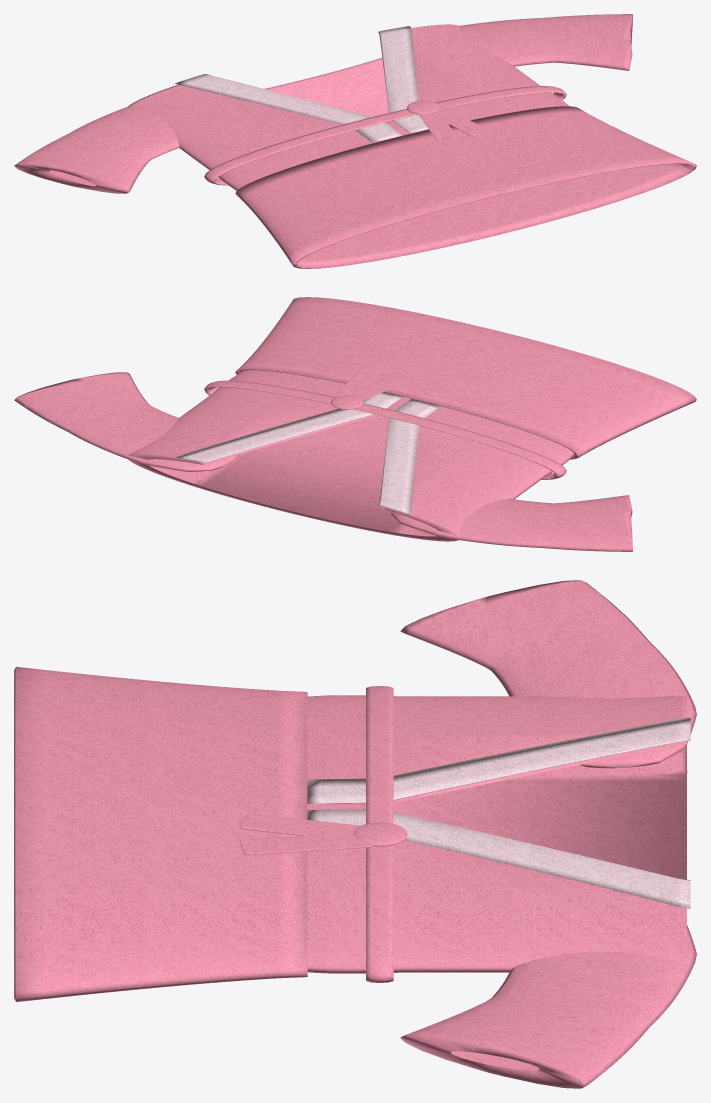
File: bathrobe1.fbx
3 renders of one model, top to bottom at view 1: azimuth 30°, elevation 25°; view 2: azimuth 150°, elevation 25°; view 3: azimuth 270°, elevation 25°, orthographic. The views are drawn at different scales.
Visible parts, largest first — view 1: bathrobe1; view 2: bathrobe1; view 3: bathrobe1.
Part boxes in pixels (x1,y1,x2,y2): bathrobe1: [14, 14, 696, 268]; bathrobe1: [14, 297, 696, 551]; bathrobe1: [14, 580, 696, 1088].
Size of the model in its own units: 1.63 by 0.1023 by 0.9335.
2 materials, 2 textured.
